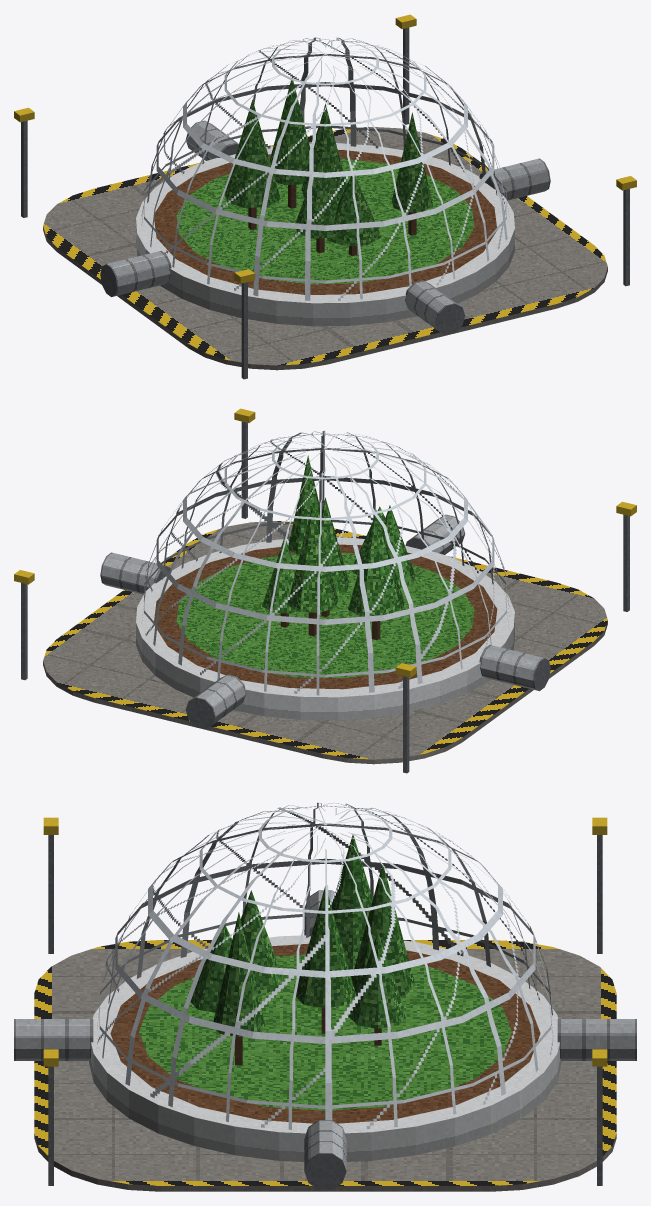
File: mars_5_inhab_namesti.glb
3 views of the same model, one above another, from view 1: azimuth 30°, elevation 25°; view 2: azimuth 150°, elevation 25°; view 3: azimuth 270°, elevation 25° (orthographic). The views are drawn at different scales.
Parts seen in each view (by area): view 1: inhab_namesti; view 2: inhab_namesti; view 3: inhab_namesti.
Part boxes in pixels (box(x1,y1,x2,y2)): inhab_namesti: box(14, 14, 636, 379); inhab_namesti: box(14, 408, 636, 773); inhab_namesti: box(14, 802, 636, 1191).
Size of the model in its own units: 14.76 by 6.4 by 14.76.
Materials: 1 (1 with a texture image).
